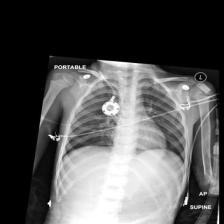normal: (61, 69, 189, 203)
